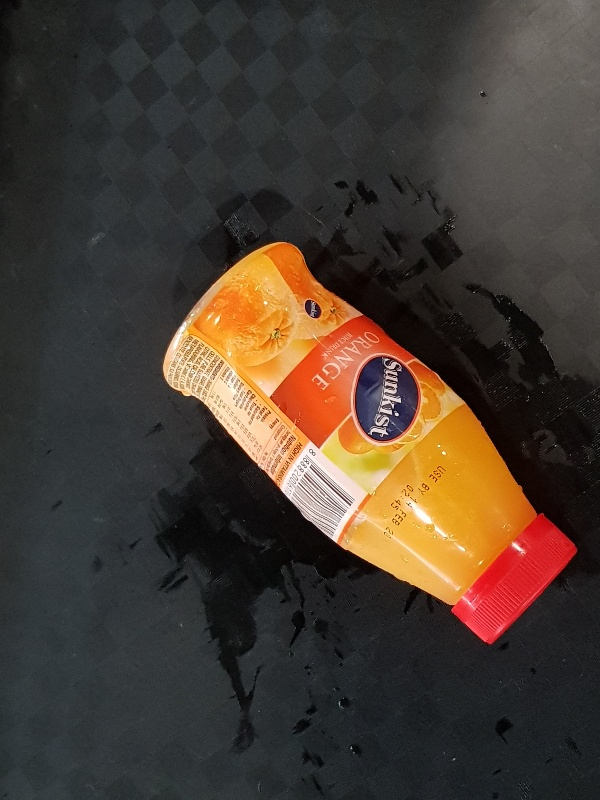Sunkist Orange Juice Drink: (161, 241, 578, 644)
